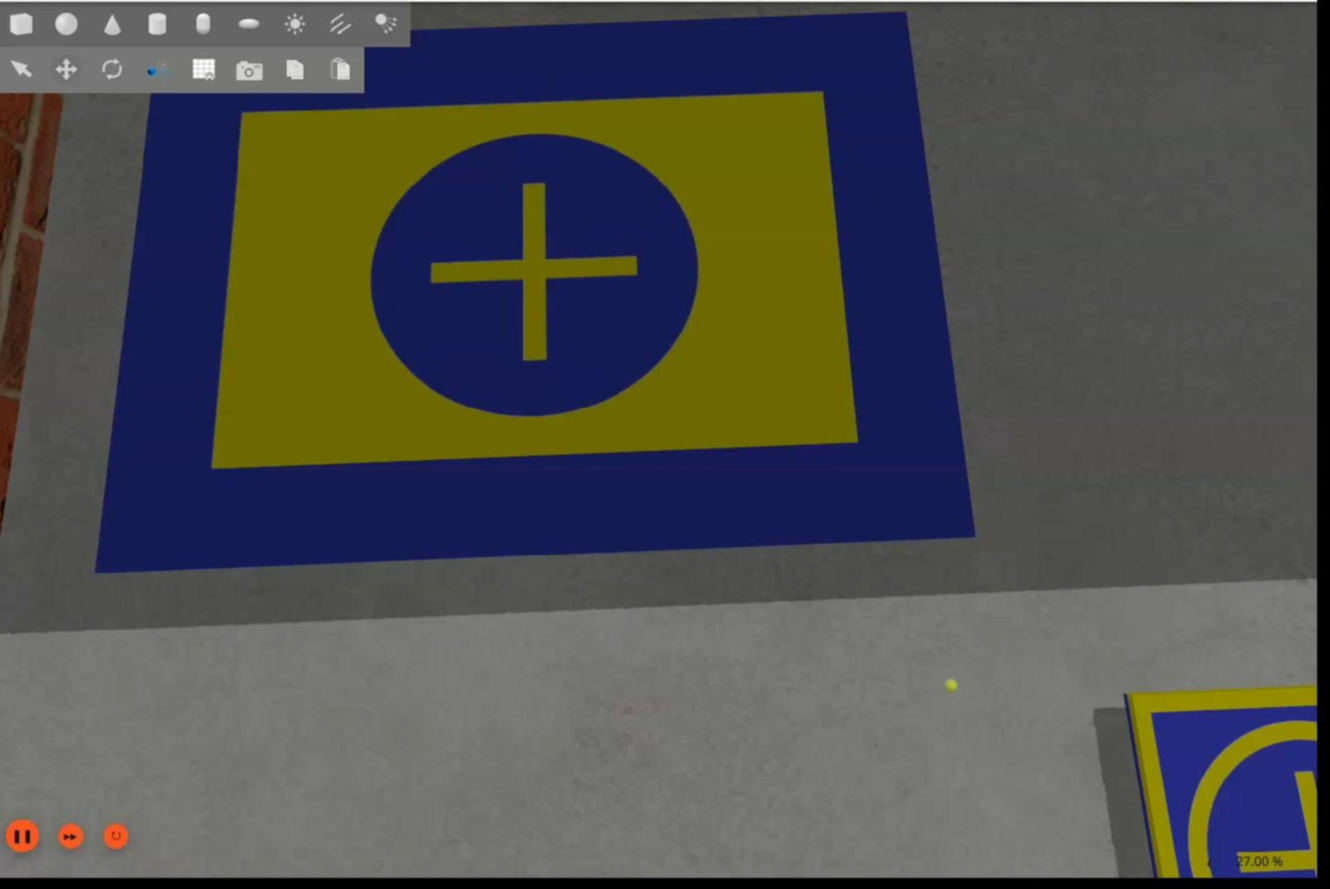large_base: (97, 15, 977, 575)
small_base: (1126, 683, 1319, 880)
